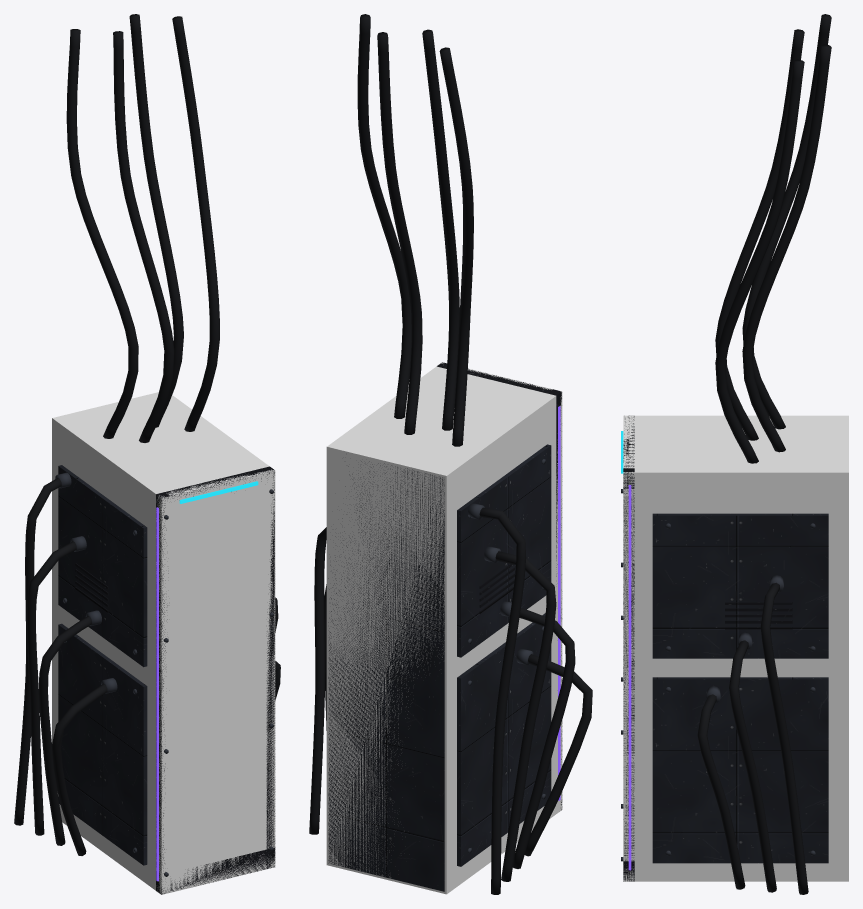
Rendered from Tech_ServerRack.gltf.
3 views of the same model, side by side, from view 1: azimuth 30°, elevation 25°; view 2: azimuth 150°, elevation 25°; view 3: azimuth 270°, elevation 25° (orthographic). The views are drawn at different scales.
Visible parts, largest first — view 1: Tech_ServerRack_COL, Tech_ServerRack; view 2: Tech_ServerRack, Tech_ServerRack_COL; view 3: Tech_ServerRack, Tech_ServerRack_COL.
Part boxes in pixels (bbox=[...]): Tech_ServerRack_COL: bbox=[52, 392, 275, 894]; Tech_ServerRack: bbox=[14, 14, 280, 894]; Tech_ServerRack: bbox=[309, 14, 592, 894]; Tech_ServerRack_COL: bbox=[326, 362, 562, 894]; Tech_ServerRack: bbox=[621, 14, 831, 894]; Tech_ServerRack_COL: bbox=[623, 415, 848, 881].
Size of the model in its own units: 1.26 by 3.98 by 1.01.
Materials: 7 (2 with a texture image).
